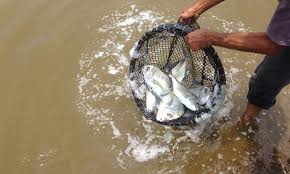Ikan Bawal: (138, 63, 174, 97)
